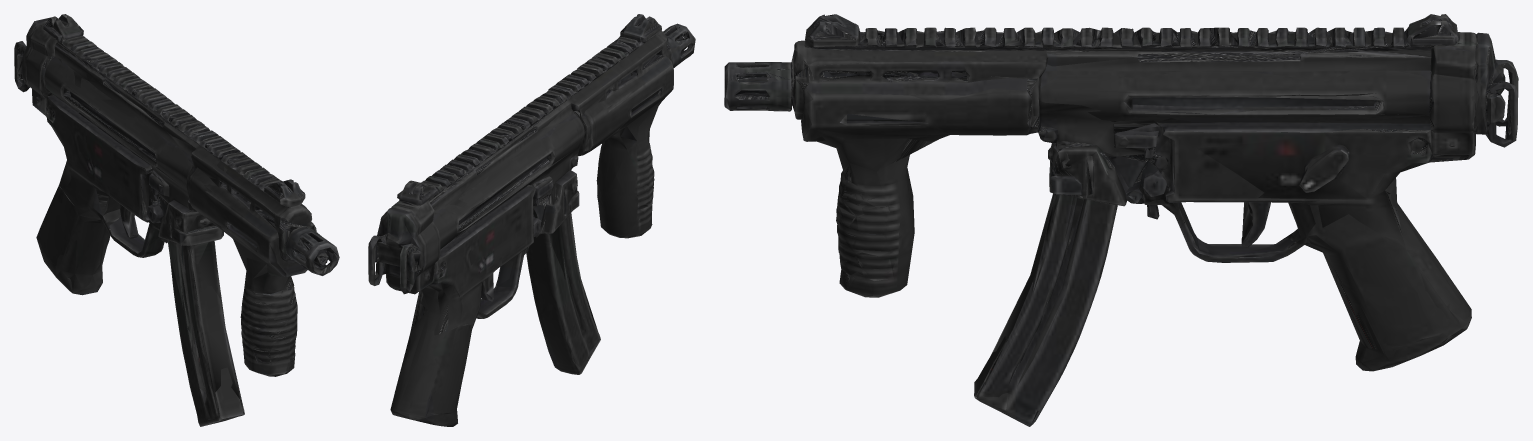
File: mp5k_pdw.glb
The picture shows the model from 3 angles, left to right: view 1: azimuth 30°, elevation 25°; view 2: azimuth 150°, elevation 25°; view 3: azimuth 270°, elevation 25°; orthographic projection. The views are drawn at different scales.
Parts seen in each view (by area): view 1: model, mesh_lod; view 2: model, mesh_lod; view 3: model, mesh_lod.
Part boxes in pixels (x1,y1,x2,y2): model: (14, 14, 339, 426); mesh_lod: (16, 15, 336, 426); model: (368, 14, 695, 426); mesh_lod: (374, 15, 695, 424); model: (724, 14, 1518, 426); mesh_lod: (724, 14, 1513, 426).
Bounding box in the file's own units: 0.0363 × 0.2063 × 0.37.
1 material, 1 textured.
